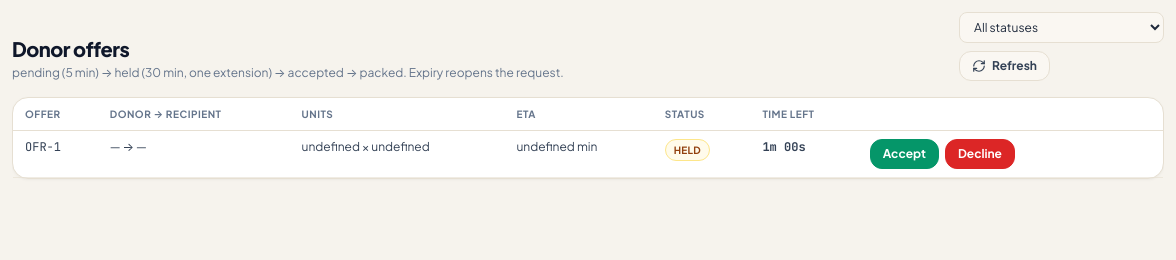
OffersPage › shows invalid_state errors from the API
The image size is (1176, 260).
Expected: the text "OFR-1" is shown, [25,139,61,155]
What coordinates should you click on to do the following:
click the button "Accept"
I would click on:
 (904, 154)
Its box is [870,139,939,169].
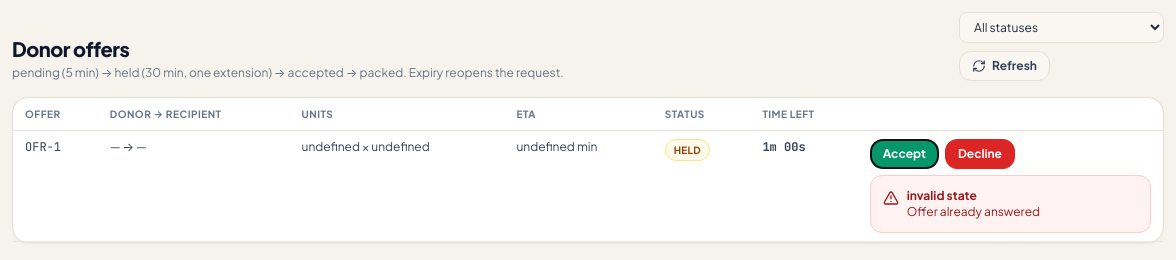
Now the text "Offer already answered" is shown, box [907,204,1040,219]
